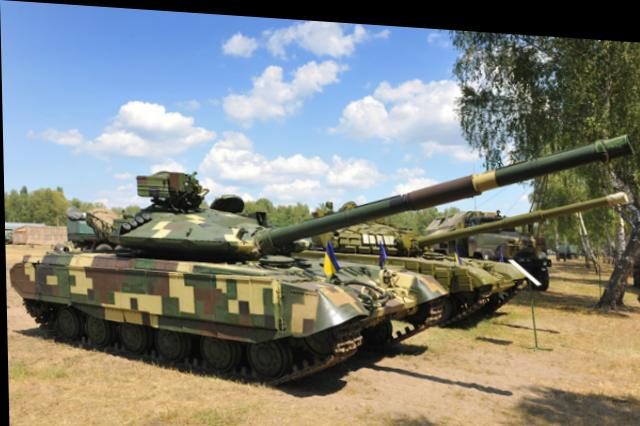tank: (15, 178, 424, 362), (337, 217, 500, 306)
